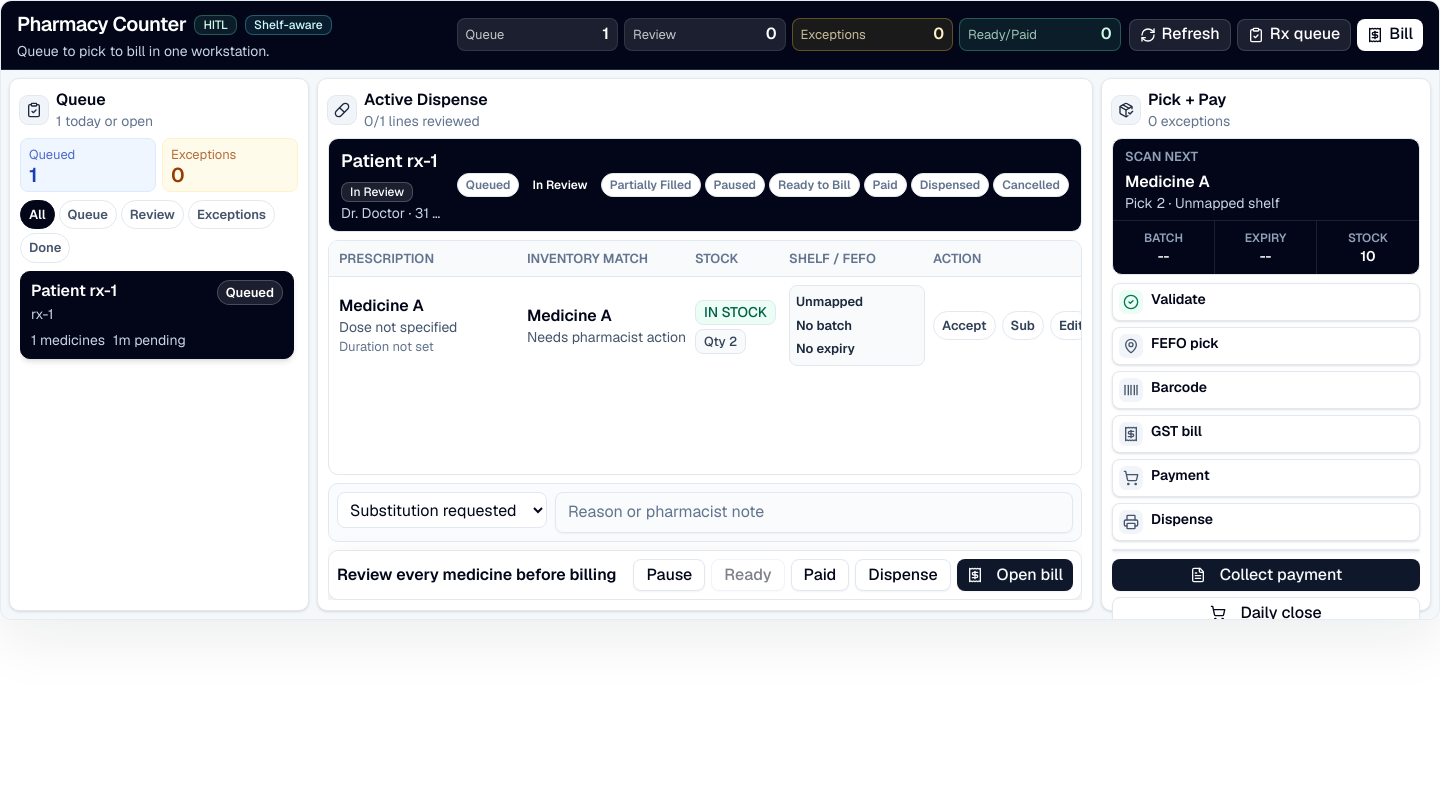
creates a task before applying an explicit status action
Click the button "Pause" at (669, 575), box [633,559,705,591]
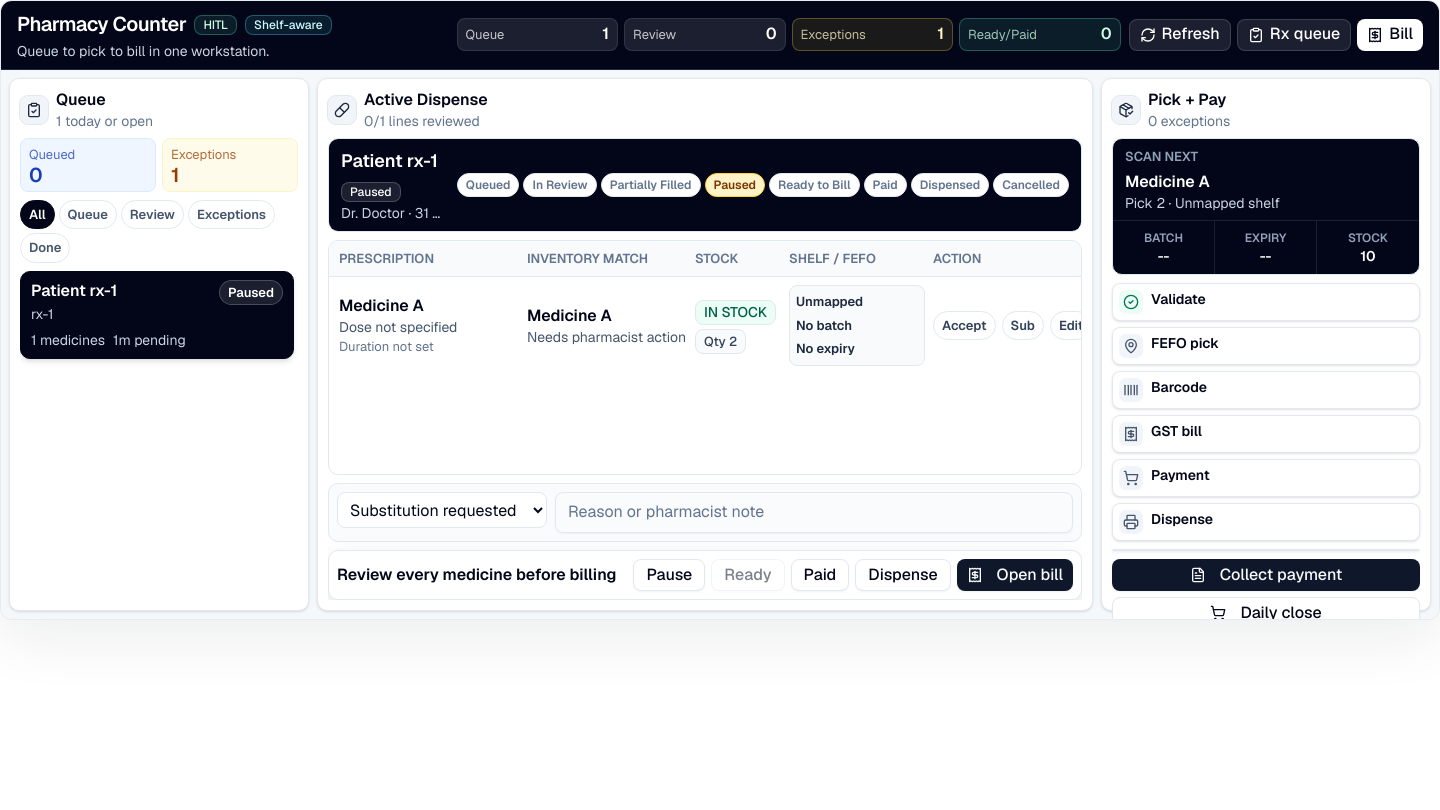
Check: the button "Patient rx-1 rx-1 Paused 1 medicines 1m pending" is shown, box [20,271,294,359]
